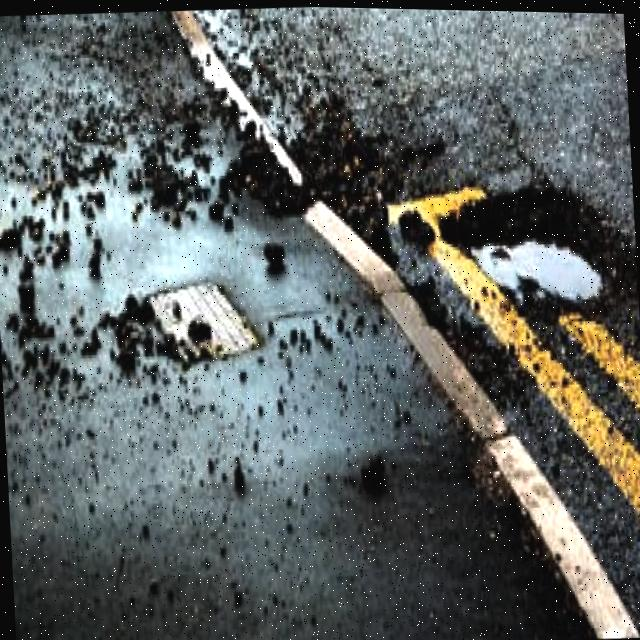Pothole: (448, 173, 634, 324)
